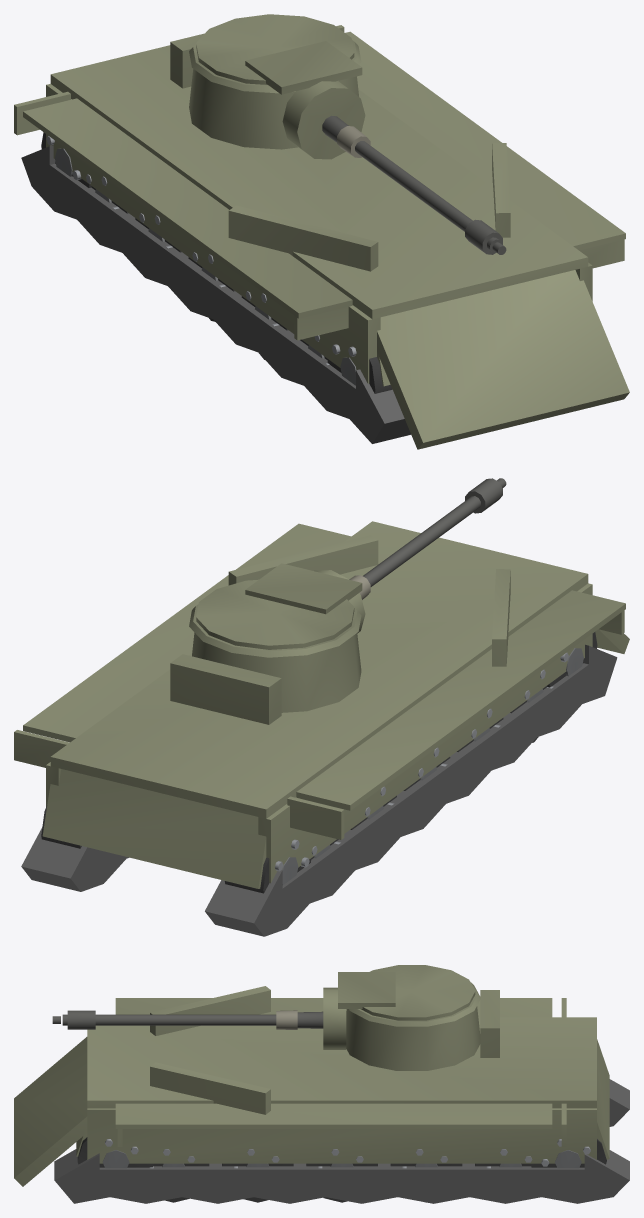
The model's file is m18-hellcat.glb.
3 views of the same model, one above another, from view 1: azimuth 30°, elevation 25°; view 2: azimuth 150°, elevation 25°; view 3: azimuth 270°, elevation 25° (orthographic). The views are drawn at different scales.
Parts seen in each view (by area): view 1: hullTop, hullSide, glacis, tracks, turretRoof, turretFront, mantlet, barrel, turretRear, turretSide, wheel5, wheel6; view 2: hullTop, hullSide, tracks, hullRear, turretRoof, turretFront, turretRear, barrel, turretSide, wheel6; view 3: hullSide, hullTop, tracks, glacis, turretRoof, turretFront, barrel, turretRear, mantlet, hullRear, turretSide, wheel12 (+6 smaller).
Part boxes in pixels (left/top/right/bottom): hullTop: left=50, top=45, right=588, bottom=319; hullSide: left=14, top=25, right=625, bottom=383; glacis: left=377, top=270, right=629, bottom=449; tracks: left=21, top=145, right=410, bottom=443; turretRoof: left=196, top=14, right=362, bottom=94; turretFront: left=189, top=69, right=358, bottom=149; mantlet: left=282, top=81, right=365, bottom=159; barrel: left=322, top=115, right=506, bottom=254; turretRear: left=170, top=33, right=204, bottom=88; turretSide: left=189, top=40, right=361, bottom=93; wheel5: left=327, top=344, right=392, bottom=393; wheel6: left=41, top=132, right=91, bottom=187; hullTop: left=50, top=521, right=588, bottom=818; hullSide: left=14, top=523, right=625, bottom=883; tracks: left=21, top=644, right=617, bottom=936; hullRear: left=42, top=769, right=266, bottom=888; turretRoof: left=196, top=563, right=362, bottom=649; turretFront: left=192, top=632, right=361, bottom=712; turretRear: left=170, top=654, right=281, bottom=724; barrel: left=349, top=478, right=506, bottom=599; turretSide: left=189, top=604, right=361, bottom=657; wheel6: left=224, top=839, right=311, bottom=893; hullSide: left=87, top=986, right=596, bottom=1163; hullTop: left=87, top=1017, right=596, bottom=1108; tracks: left=54, top=1079, right=629, bottom=1203; glacis: left=14, top=1037, right=87, bottom=1186; turretRoof: left=338, top=965, right=475, bottom=1020; turretFront: left=346, top=1006, right=480, bottom=1070; barrel: left=52, top=1010, right=323, bottom=1029; turretRear: left=480, top=990, right=499, bottom=1057; mantlet: left=323, top=987, right=346, bottom=1049; hullRear: left=591, top=1039, right=609, bottom=1159; turretSide: left=349, top=982, right=480, bottom=1026; wheel12: left=77, top=1137, right=153, bottom=1168.
Bounding box in the file's own units: 3.64 × 2.33 × 7.49.
